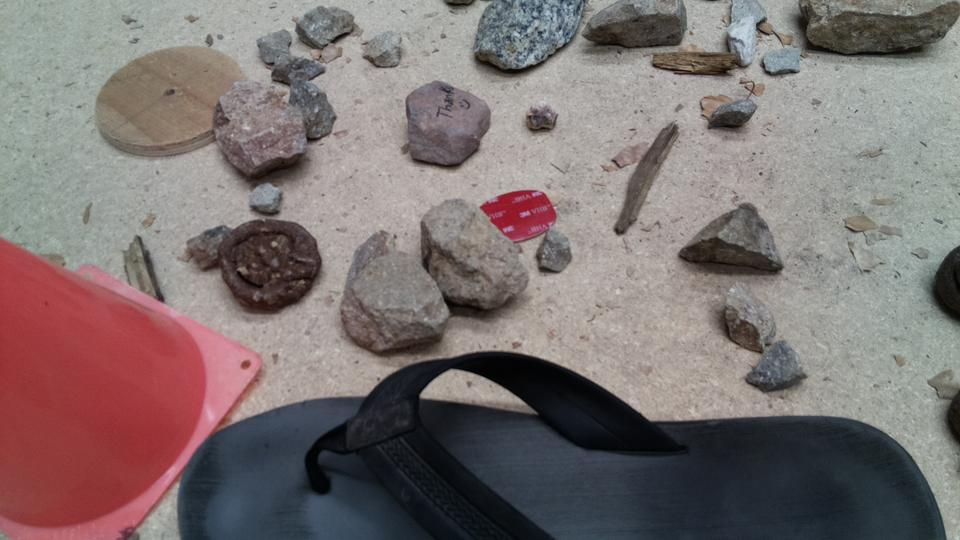poop: (216, 217, 322, 313)
